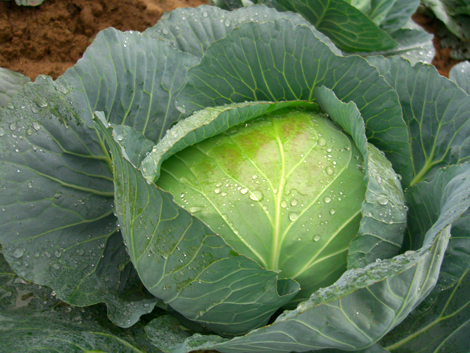cabbage: (92, 83, 410, 334)
